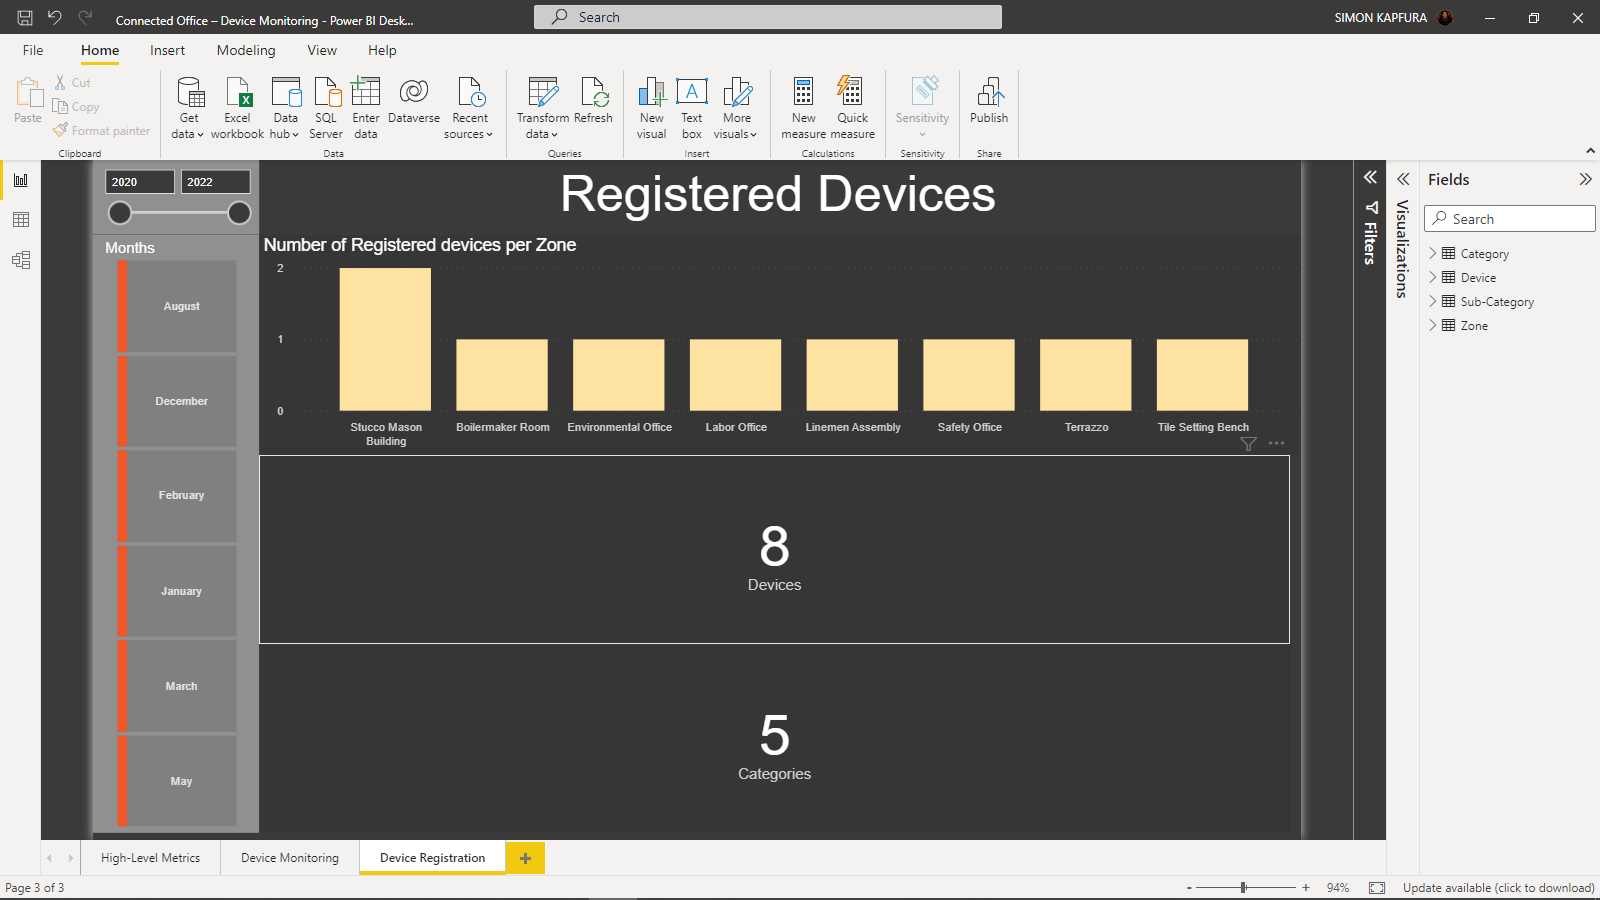

This screenshot's page, from the dashboard's own definition file:
{"tool":"powerbi","page":{"name":"Device Registration","canvas":[1280,720],"ordinal":2},"visuals":[{"type":"slicer","fields":{"Values":["Device1.Year"]},"box":[0,0,175.9,79.2],"z":0},{"type":"card","fields":{"Values":["Count(Device1.Device Name)"]},"box":[175.9,312.3,1092,200.1],"z":1000},{"type":"slicer","fields":{"Values":["Device1.Month Name"]},"box":[0,79.2,175.9,633.4],"z":2000},{"type":"card","fields":{"Values":["Count(Device1.Category ID)"]},"box":[175.9,512.4,1092,200.1],"z":3000},{"type":"lineStackedColumnComboChart","title":"Number of Registered devices per Zone","fields":{"Category":["Zone1.ZoneName"],"Y":["CountNonNull(Device1.Device Name)"]},"box":[175.9,79.2,1104.1,233.1],"z":4000},{"type":"textbox","box":[489.3,0,491.5,79.2],"z":5000},{"type":"actionButton","box":[0,0,100,40],"z":6000}]}

Visuals, with their boxes on the page's 1280x720 design canvas (x1, y1, x2, y2). These are canvas units, not pixel positions in the 1600x900 screenshot, which may show the page scaled, cropped or inside an application window:
slicer - Device1.Year: box(0, 0, 176, 79)
card - Count(Device1.Device Name): box(176, 312, 1268, 512)
slicer - Device1.Month Name: box(0, 79, 176, 713)
card - Count(Device1.Category ID): box(176, 512, 1268, 712)
"Number of Registered devices per Zone" lineStackedColumnComboChart: box(176, 79, 1280, 312)
textbox: box(489, 0, 981, 79)
actionButton: box(0, 0, 100, 40)
